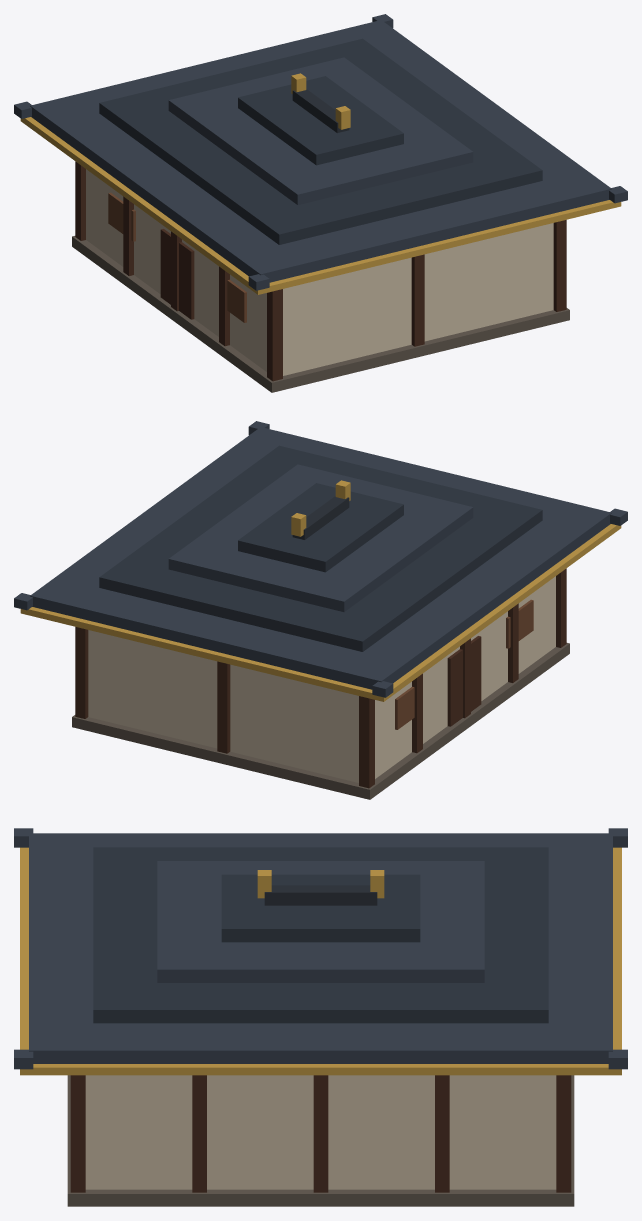
File: cl-barracks.glb
3 renders of one model, top to bottom at view 1: azimuth 30°, elevation 25°; view 2: azimuth 150°, elevation 25°; view 3: azimuth 270°, elevation 25°, orthographic. The views are drawn at different scales.
Parts seen in each view (by area): view 1: barracks-roof, barracks-body; view 2: barracks-roof, barracks-body; view 3: barracks-roof, barracks-body.
Boxes of the visible parts, bbox=[...] form: barracks-roof: bbox=[14, 14, 627, 294]; barracks-body: bbox=[72, 161, 569, 392]; barracks-roof: bbox=[14, 421, 627, 701]; barracks-body: bbox=[72, 568, 569, 799]; barracks-roof: bbox=[14, 828, 627, 1075]; barracks-body: bbox=[67, 1075, 574, 1206].
Size of the model in its own units: 15.45 by 7.57 by 17.45.
